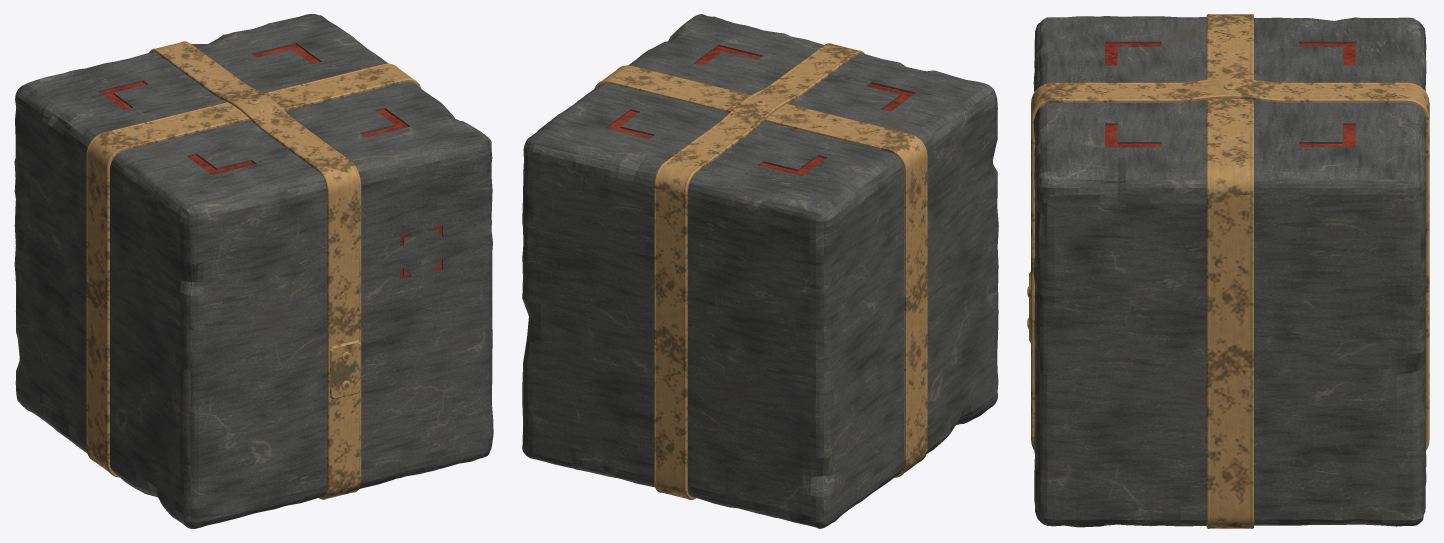
The model's file is T25-A4-stone-local.obj.
The picture shows the model from 3 angles, left to right: view 1: azimuth 30°, elevation 25°; view 2: azimuth 150°, elevation 25°; view 3: azimuth 270°, elevation 25°; orthographic projection. The views are drawn at different scales.
Parts seen in each view (by area): view 1: 01_HewnGreywacke_RecessedSeals, 03_BronzeGirth_FrontBack, 02_BronzeGirth_EastWest, 05_FrontScarfPlate; view 2: 01_HewnGreywacke_RecessedSeals, 03_BronzeGirth_FrontBack, 02_BronzeGirth_EastWest; view 3: 01_HewnGreywacke_RecessedSeals, 02_BronzeGirth_EastWest, 03_BronzeGirth_FrontBack.
Boxes of the visible parts, bbox=[...] form: 01_HewnGreywacke_RecessedSeals: bbox=[14, 14, 493, 528]; 03_BronzeGirth_FrontBack: bbox=[149, 41, 361, 499]; 02_BronzeGirth_EastWest: bbox=[86, 63, 421, 477]; 05_FrontScarfPlate: bbox=[330, 340, 360, 399]; 01_HewnGreywacke_RecessedSeals: bbox=[522, 14, 998, 528]; 03_BronzeGirth_FrontBack: bbox=[654, 43, 864, 499]; 02_BronzeGirth_EastWest: bbox=[594, 65, 927, 477]; 01_HewnGreywacke_RecessedSeals: bbox=[1033, 16, 1426, 527]; 02_BronzeGirth_EastWest: bbox=[1206, 14, 1253, 528]; 03_BronzeGirth_FrontBack: bbox=[1031, 78, 1429, 450].
Size of the model in its own units: 1.01 by 1.05 by 1.02.
Materials: 3 (3 with a texture image).
